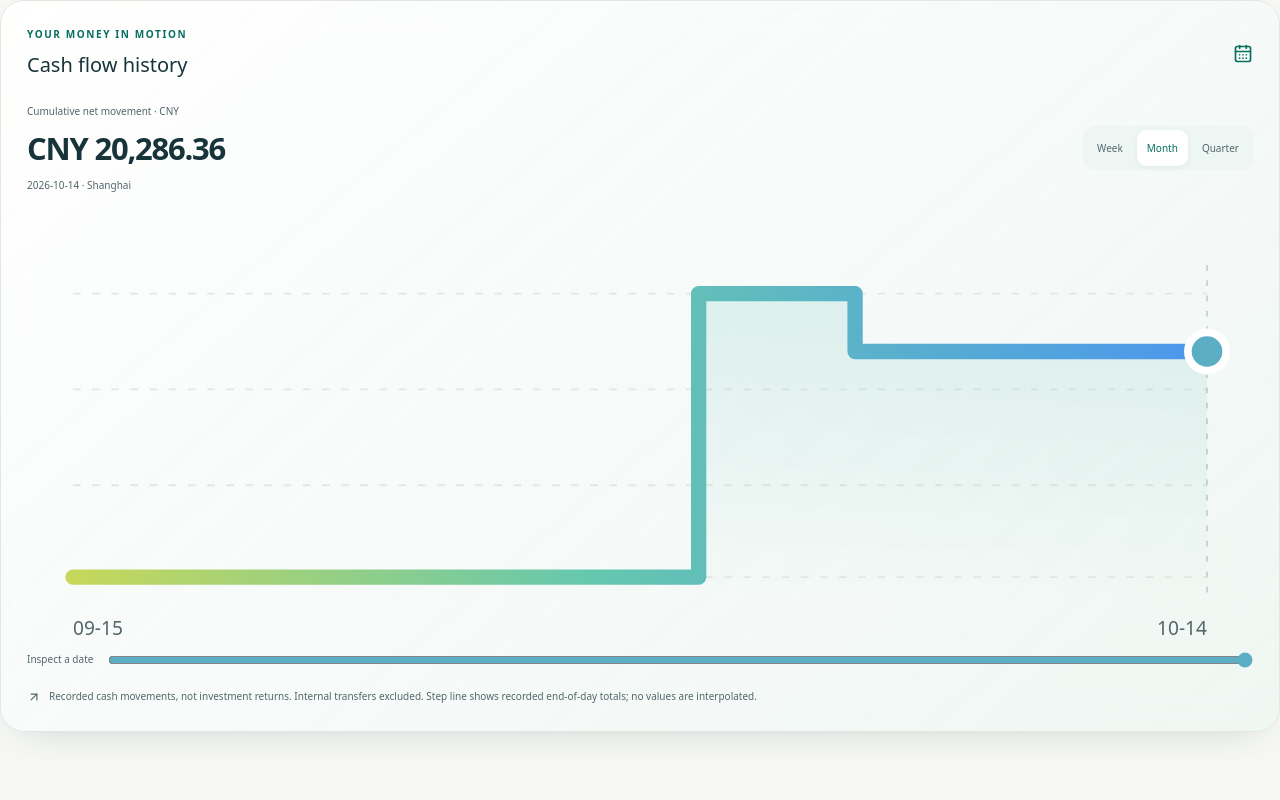
Scenario: shows a new date window when the graph period changes
This screenshot has width=1280, height=800.
Check: the picture named "over 30 days" is shown, box left=27, top=216, right=1253, bottom=638
Click the button "Week": (1110, 148) left=1087, top=130, right=1133, bottom=166
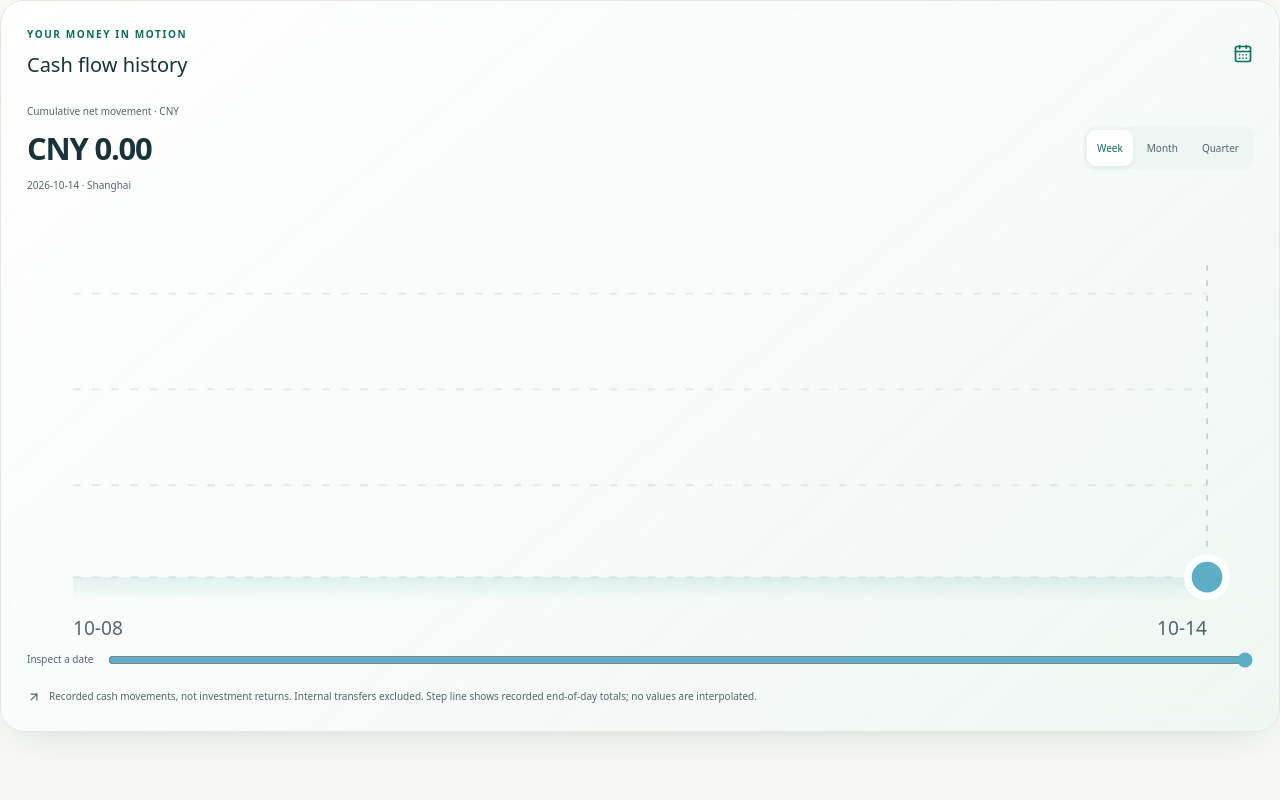
Check: the picture named "over 7 days" is shown, box left=27, top=216, right=1253, bottom=638
